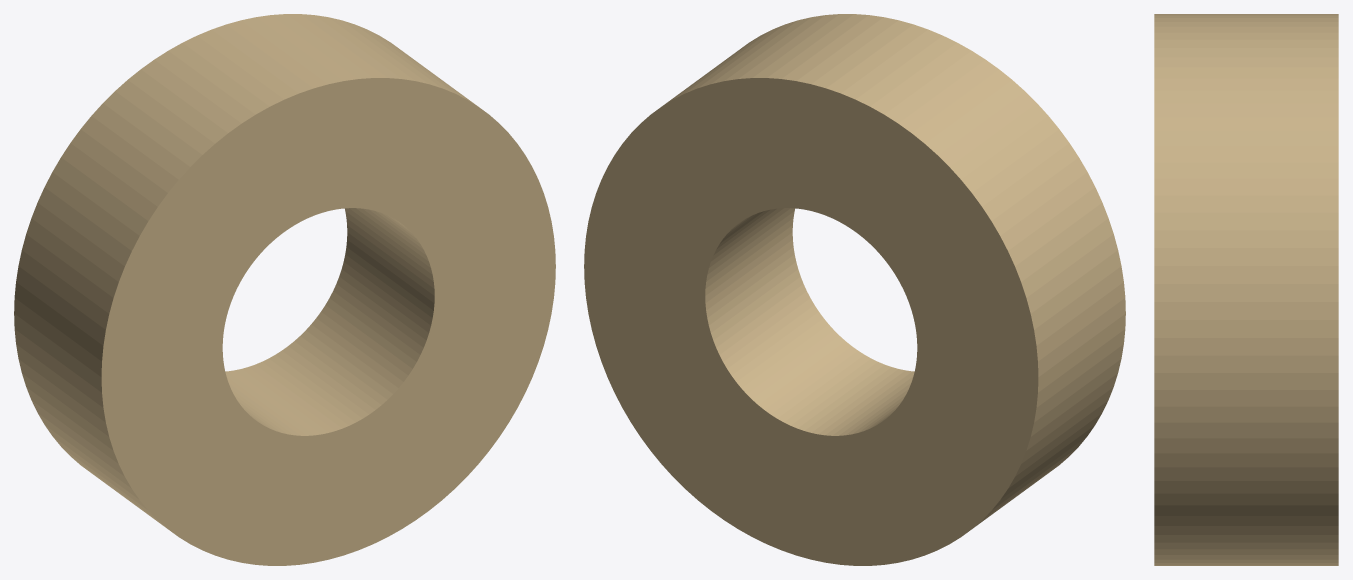
The model's file is ANEL_3D.glb.
3 views of the same model, side by side, from view 1: azimuth 30°, elevation 25°; view 2: azimuth 150°, elevation 25°; view 3: azimuth 270°, elevation 25° (orthographic). The views are drawn at different scales.
Parts seen in each view (by area): view 1: EXTRUDE; view 2: EXTRUDE; view 3: EXTRUDE.
Boxes of the visible parts, bbox=[...] form: EXTRUDE: bbox=[14, 14, 555, 565]; EXTRUDE: bbox=[584, 14, 1125, 565]; EXTRUDE: bbox=[1154, 14, 1338, 565].
Size of the model in its own units: 0.3 by 0.3 by 0.1.
